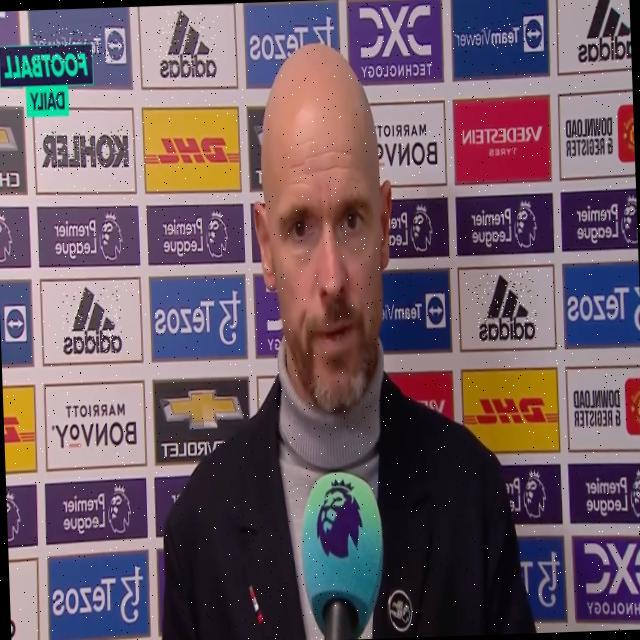Adidas: (475, 271, 537, 343), (61, 285, 123, 356), (157, 8, 217, 79), (574, 0, 631, 65)
Kohler: (40, 129, 130, 171)
TeamViewer: (454, 14, 545, 54), (33, 26, 124, 64)
